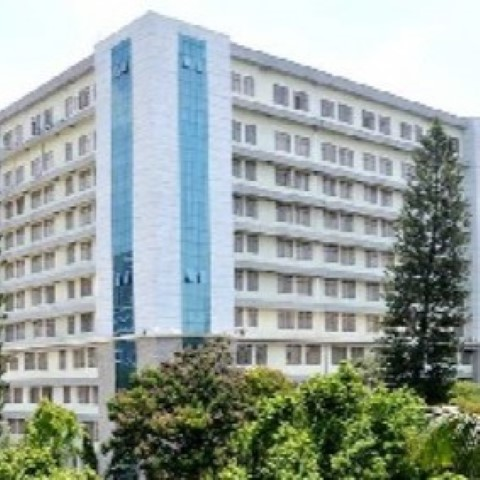Central Block: (1, 8, 480, 404)
